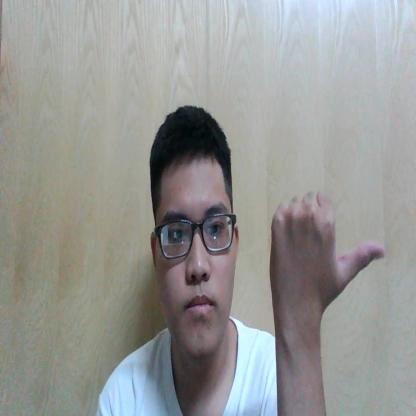left: (269, 191, 385, 325)
